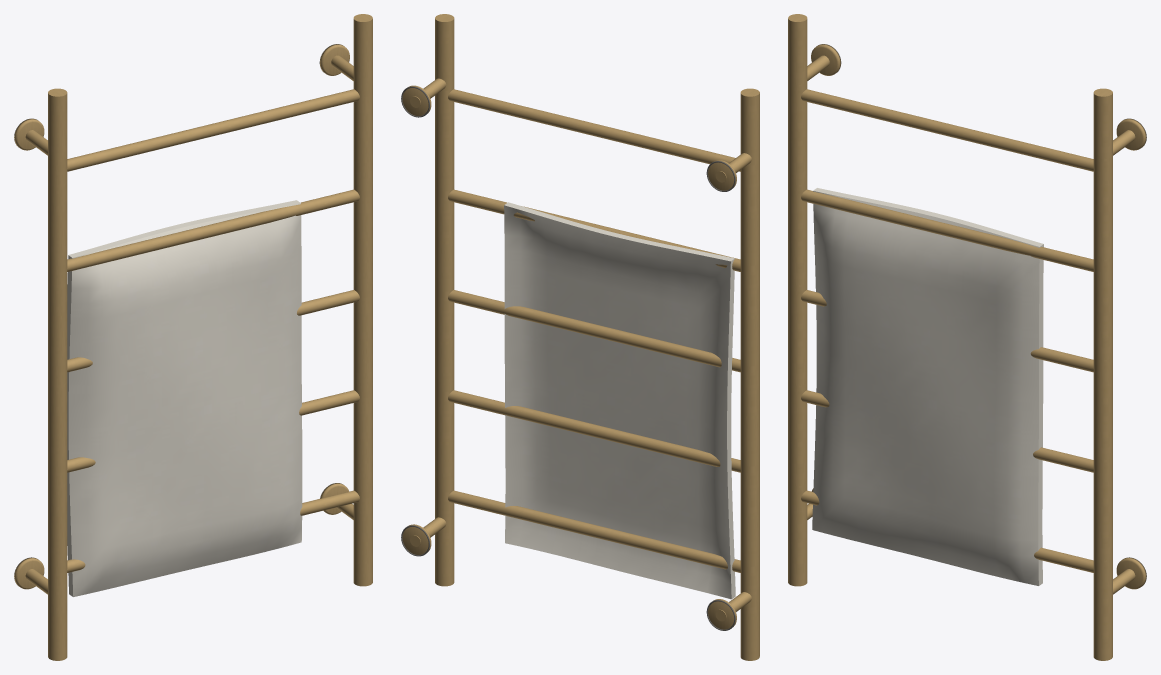
The model's file is kowhai-hero-bth-04.glb.
The picture shows the model from 3 angles, left to right: view 1: azimuth 30°, elevation 25°; view 2: azimuth 150°, elevation 25°; view 3: azimuth 330°, elevation 25°; orthographic projection.
Parts seen in each view (by area): view 1: TowelLadder_DrapedFlaxTowel, TowelLadder_VerticalColumn_1, TowelLadder_VerticalColumn_2, TowelLadder_HeatedBar_5, TowelLadder_HeatedBar_4, SubPart (×3), TowelLadder_HeatedBar_2, TowelLadder_HeatedBar_3, TowelLadder_HeatedBar_1; view 2: TowelLadder_DrapedFlaxTowel, TowelLadder_VerticalColumn_1, TowelLadder_VerticalColumn_2, TowelLadder_HeatedBar_1, TowelLadder_HeatedBar_3, TowelLadder_HeatedBar_2, TowelLadder_HeatedBar_5, SubPart (×4), TowelLadder_HeatedBar_4; view 3: TowelLadder_DrapedFlaxTowel, TowelLadder_VerticalColumn_2, TowelLadder_VerticalColumn_1, TowelLadder_HeatedBar_5, TowelLadder_HeatedBar_4, SubPart (×3), TowelLadder_HeatedBar_2, TowelLadder_HeatedBar_3, TowelLadder_HeatedBar_1.
Boxes of the visible parts, left/top/right/bottom form: TowelLadder_DrapedFlaxTowel: left=67, top=200, right=302, bottom=596; TowelLadder_VerticalColumn_1: left=48, top=88, right=67, bottom=660; TowelLadder_VerticalColumn_2: left=353, top=14, right=372, bottom=586; TowelLadder_HeatedBar_5: left=67, top=89, right=359, bottom=171; TowelLadder_HeatedBar_4: left=67, top=189, right=359, bottom=271; SubPart (×3): left=14, top=44, right=349, bottom=589; TowelLadder_HeatedBar_2: left=67, top=390, right=359, bottom=472; TowelLadder_HeatedBar_3: left=67, top=290, right=359, bottom=372; TowelLadder_HeatedBar_1: left=67, top=490, right=359, bottom=572; TowelLadder_DrapedFlaxTowel: left=504, top=202, right=735, bottom=599; TowelLadder_VerticalColumn_1: left=740, top=88, right=759, bottom=660; TowelLadder_VerticalColumn_2: left=435, top=14, right=454, bottom=586; TowelLadder_HeatedBar_1: left=448, top=490, right=740, bottom=572; TowelLadder_HeatedBar_3: left=448, top=290, right=740, bottom=372; TowelLadder_HeatedBar_2: left=448, top=390, right=740, bottom=472; TowelLadder_HeatedBar_5: left=448, top=89, right=740, bottom=171; SubPart (×4): left=402, top=85, right=736, bottom=629; TowelLadder_HeatedBar_4: left=448, top=189, right=740, bottom=271; TowelLadder_DrapedFlaxTowel: left=812, top=188, right=1043, bottom=585; TowelLadder_VerticalColumn_2: left=1093, top=88, right=1112, bottom=660; TowelLadder_VerticalColumn_1: left=788, top=14, right=807, bottom=586; TowelLadder_HeatedBar_5: left=801, top=89, right=1093, bottom=171; TowelLadder_HeatedBar_4: left=801, top=189, right=1093, bottom=271; SubPart (×3): left=811, top=44, right=1146, bottom=589; TowelLadder_HeatedBar_2: left=801, top=390, right=1093, bottom=472; TowelLadder_HeatedBar_3: left=801, top=290, right=1093, bottom=372; TowelLadder_HeatedBar_1: left=801, top=490, right=1093, bottom=572.
Size of the model in its own units: 0.5583 by 0.9 by 0.11.
Materials: 3 (2 with a texture image).
